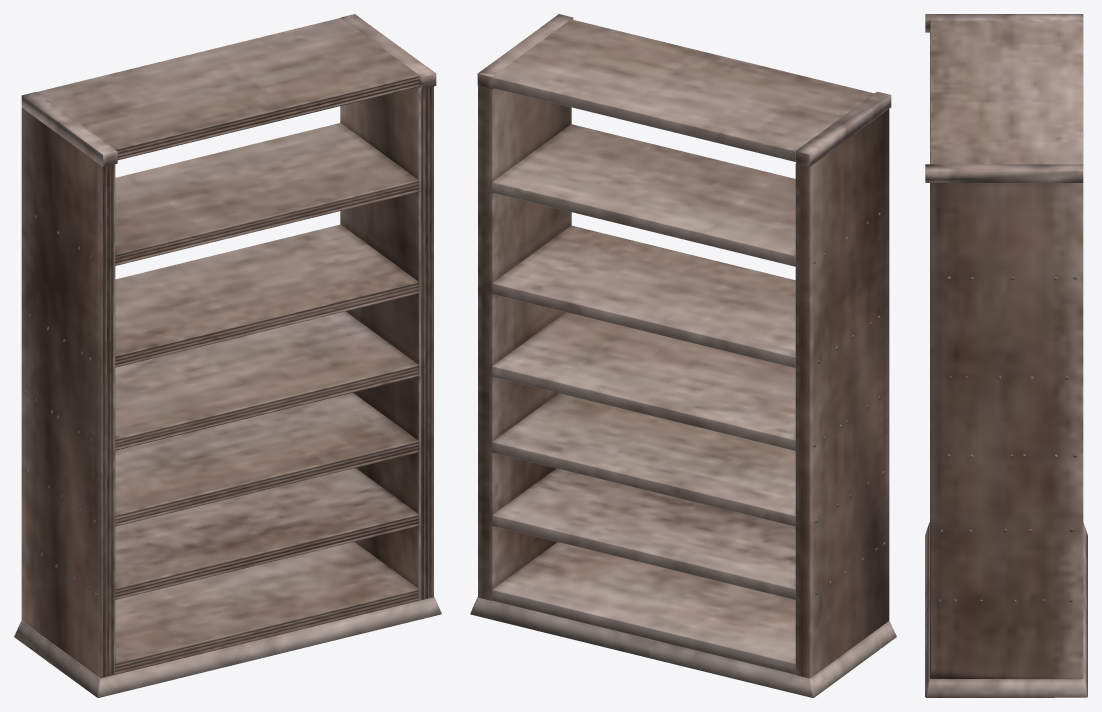
The model's file is wooden_bookshelf_worn.glb.
The picture shows the model from 3 angles, left to right: view 1: azimuth 30°, elevation 25°; view 2: azimuth 150°, elevation 25°; view 3: azimuth 270°, elevation 25°; orthographic projection. The views are drawn at different scales.
Visible parts, largest first — view 1: wooden_bookshelf_worn; view 2: wooden_bookshelf_worn; view 3: wooden_bookshelf_worn.
Part boxes in pixels (x1=…): wooden_bookshelf_worn: x1=14, y1=14, x2=441, y2=697; wooden_bookshelf_worn: x1=470, y1=14, x2=896, y2=697; wooden_bookshelf_worn: x1=925, y1=14, x2=1087, y2=697.
Size of the model in its own units: 1.37 by 2.06 by 0.5813.
1 material, 1 textured.
